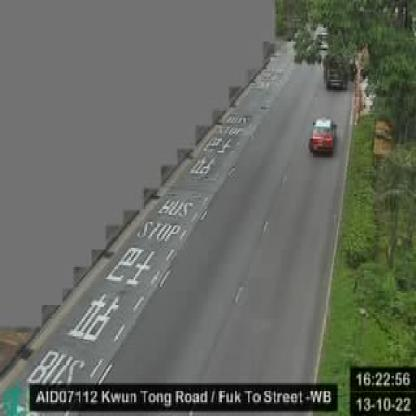Car: (309, 116, 337, 157)
